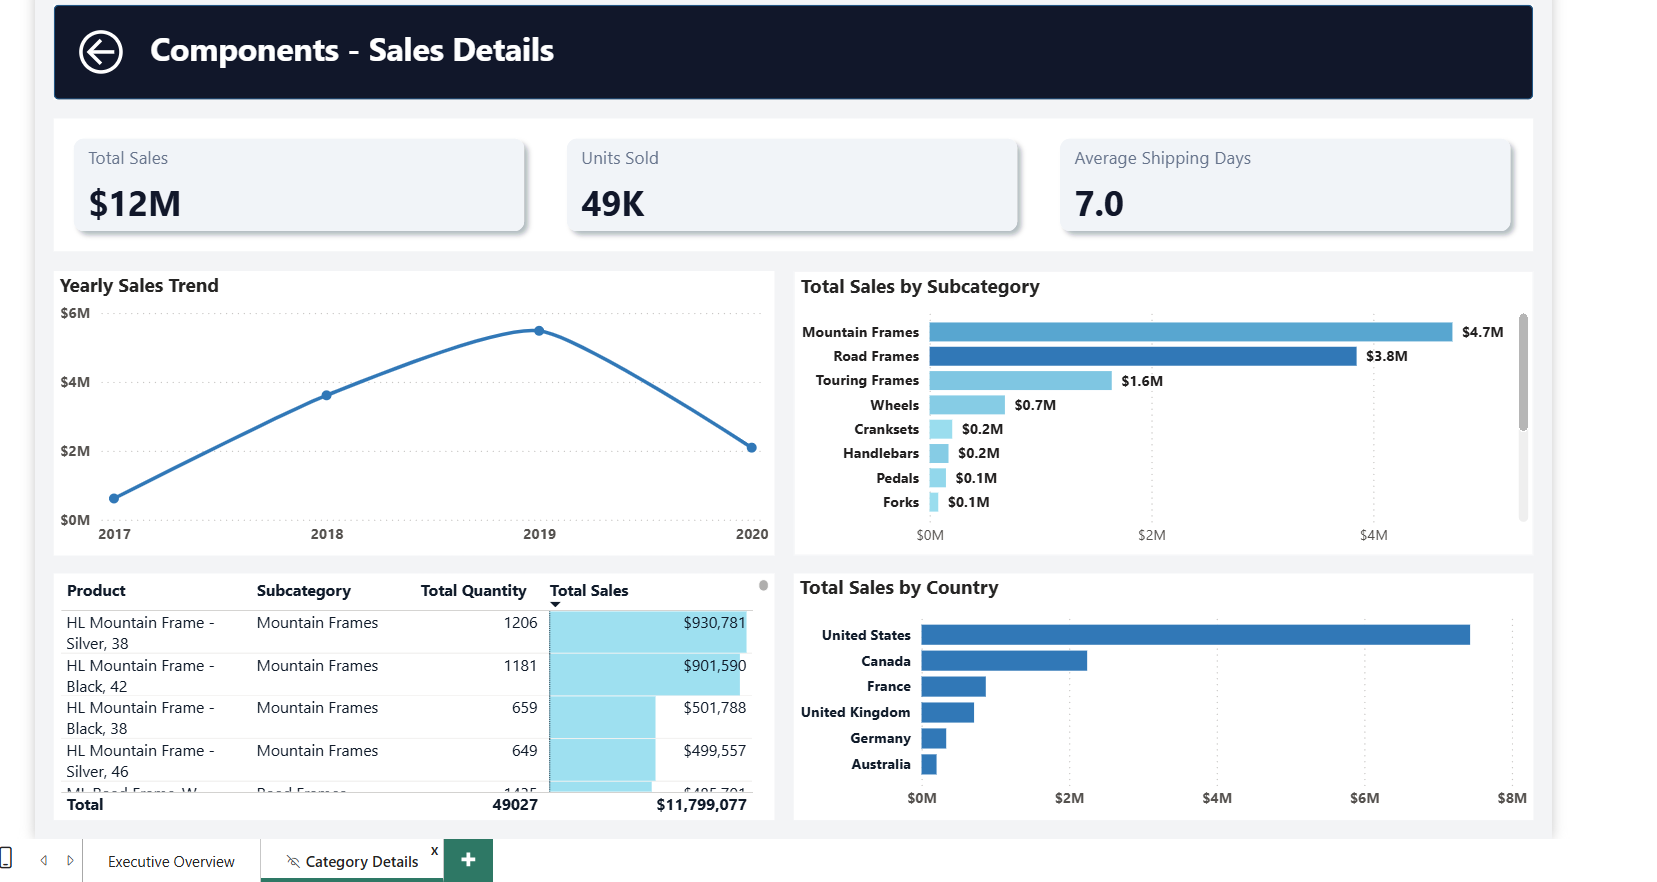

Layout of this report page (visuals, bound fields, positions):
{"tool":"powerbi","page":{"name":"Category Details","canvas":[1280,720],"ordinal":1},"visuals":[{"type":"shape","box":[16,16,1248,80],"z":0,"group":"g1"},{"type":"cardVisual","fields":{"Data":["-Measures.Total Sales","-Measures.Total Quantity","-Measures.Avg Shipping Days"]},"box":[16,112,1248,112],"z":0},{"type":"shape","box":[16,16,1248,80],"z":1000,"group":"g1"},{"type":"lineChart","title":"Yearly Sales Trend","fields":{"Category":["Date.Calendar Year","Date.Start of Month"],"Y":["-Measures.Total Sales"]},"box":[16,240,608,240],"z":1000},{"type":"actionButton","box":[32,32,48,48],"z":2000,"group":"g1"},{"type":"clusteredBarChart","fields":{"Category":["Product.Subcategory"],"Y":["-Measures.Total Sales"]},"box":[640,240,624,240],"z":2000},{"type":"cardVisual","fields":{"Data":["-Measures.Category Header Text"]},"box":[80,16,400,64],"z":3000,"group":"g1"},{"type":"tableEx","fields":{"Values":["Product.Product","Product.Products.Subcategory","-Measures.Total Quantity","-Measures.Total Sales"]},"box":[16,496,608,208],"z":3000},{"type":"clusteredBarChart","fields":{"Category":["Sales Territory.Country"],"Y":["-Measures.Total Sales"]},"box":[640,496,624,208],"z":4000},{"type":"group","id":"g1","title":"Group 1","box":[16,16,1248,80],"z":5000}]}

Visuals, with their boxes on the page's 1280x720 design canvas (x1, y1, x2, y2). These are canvas units, not pixel positions in the 1657x882 screenshot, which may show the page scaled, cropped or inside an application window:
shape: left=16, top=16, right=1264, bottom=96
cardVisual - -Measures.Total Sales x -Measures.Total Quantity: left=16, top=112, right=1264, bottom=224
shape: left=16, top=16, right=1264, bottom=96
"Yearly Sales Trend" lineChart: left=16, top=240, right=624, bottom=480
actionButton: left=32, top=32, right=80, bottom=80
clusteredBarChart - Product.Subcategory x -Measures.Total Sales: left=640, top=240, right=1264, bottom=480
cardVisual - -Measures.Category Header Text: left=80, top=16, right=480, bottom=80
tableEx - Product.Product x Product.Products.Subcategory: left=16, top=496, right=624, bottom=704
clusteredBarChart - Sales Territory.Country x -Measures.Total Sales: left=640, top=496, right=1264, bottom=704
"Group 1" group: left=16, top=16, right=1264, bottom=96
